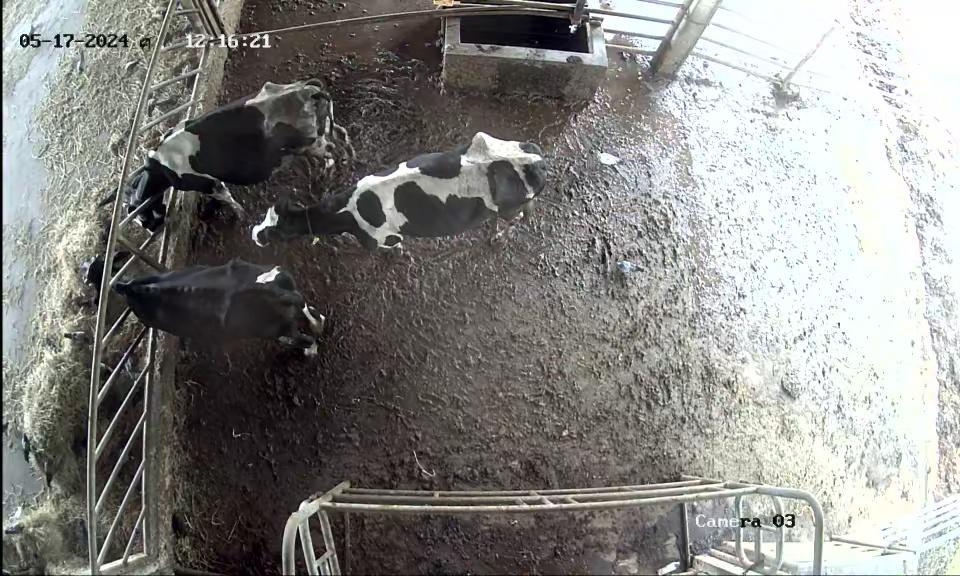eat: (82, 140, 209, 237), (68, 242, 175, 327)
stand: (238, 125, 564, 270)
